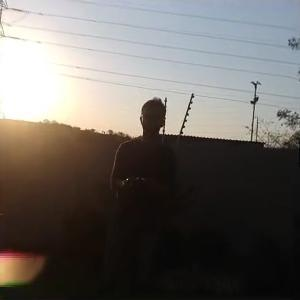follow: (108, 93, 180, 298)
